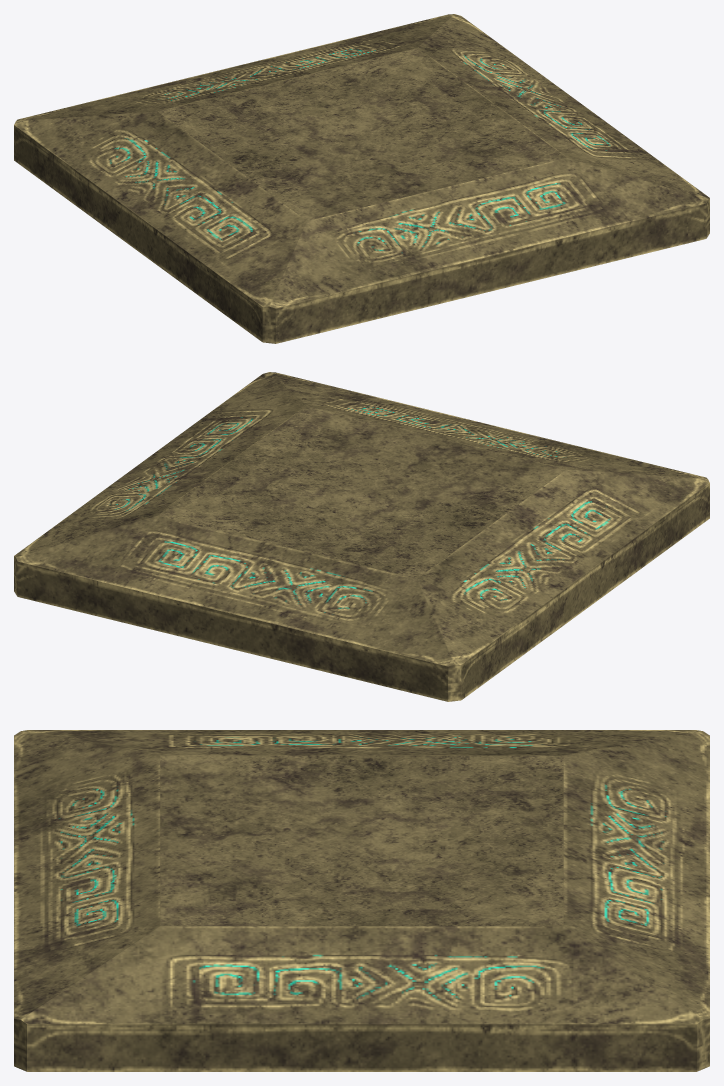
Rendered from Plate (3).fbx.
3 views of the same model, one above another, from view 1: azimuth 30°, elevation 25°; view 2: azimuth 150°, elevation 25°; view 3: azimuth 270°, elevation 25° (orthographic). The views are drawn at different scales.
Parts seen in each view (by area): view 1: 3 Plate.001; view 2: 3 Plate.001; view 3: 3 Plate.001.
Boxes of the visible parts, x1,y1,x2,y2 form: 3 Plate.001: (14,14,709,343); 3 Plate.001: (14,372,709,701); 3 Plate.001: (14,730,709,1071).
Bounding box in the file's own units: 230 × 30.58 × 230.
